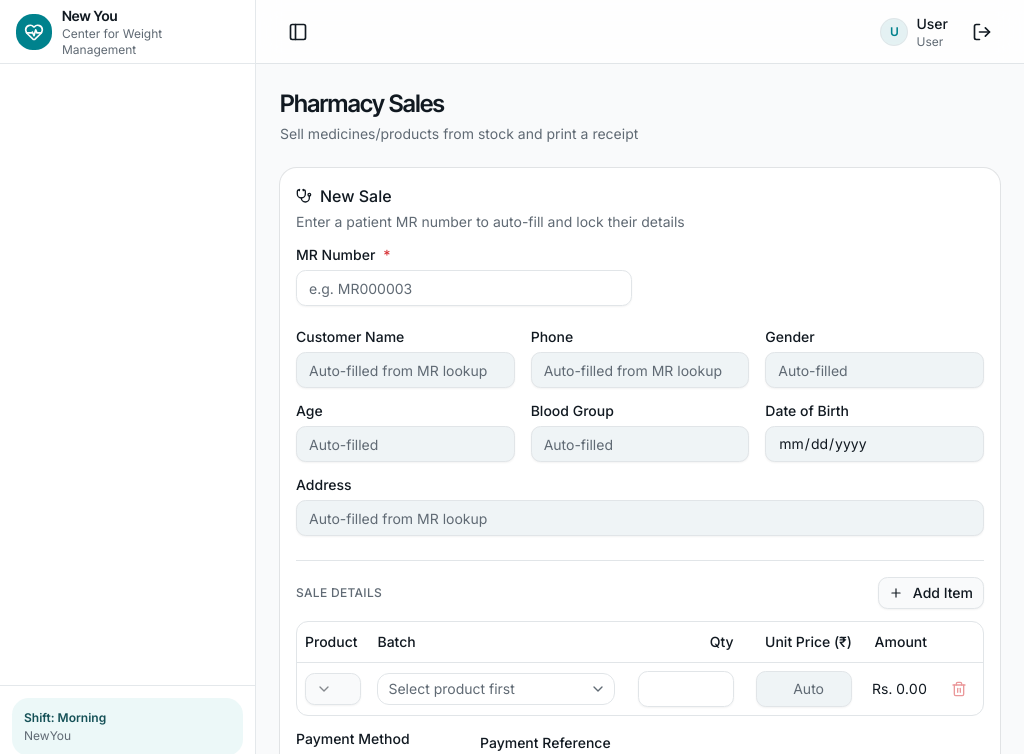
Scenario: PharmacySalesPage › searches patients when an MR number is entered
Type "MR000001" into the field with placeholder "e.g. MR000003" at {"x": 464, "y": 288}, box [296, 270, 632, 306]
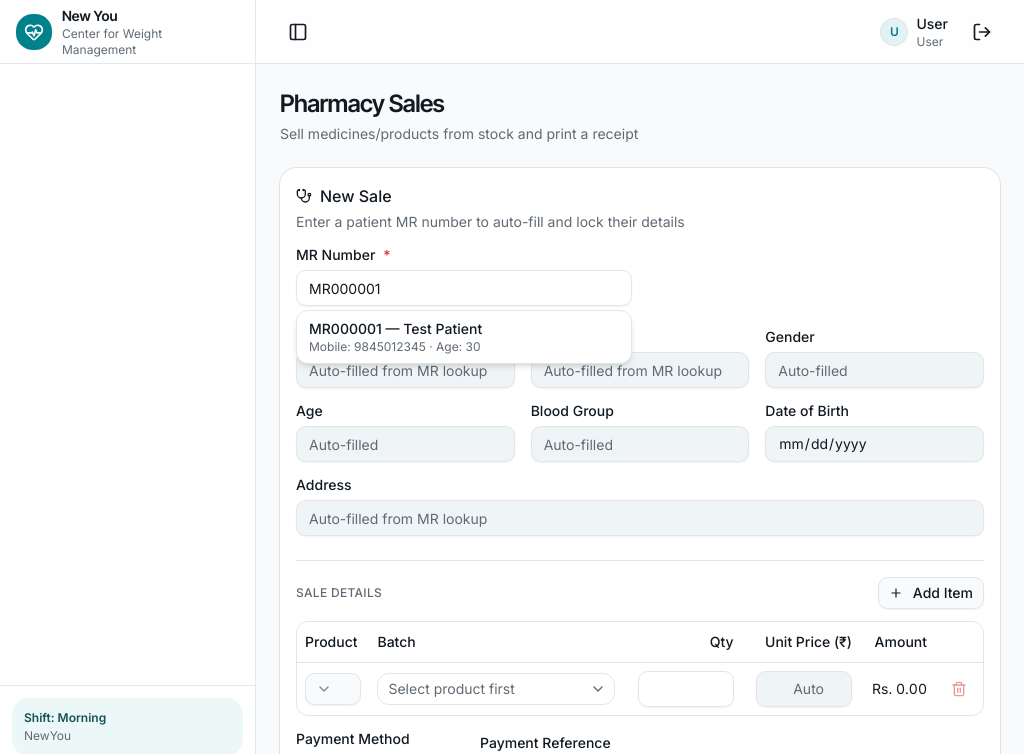
Expected: the text "MR000001 — Test Patient" is shown, [309, 320, 482, 337]
